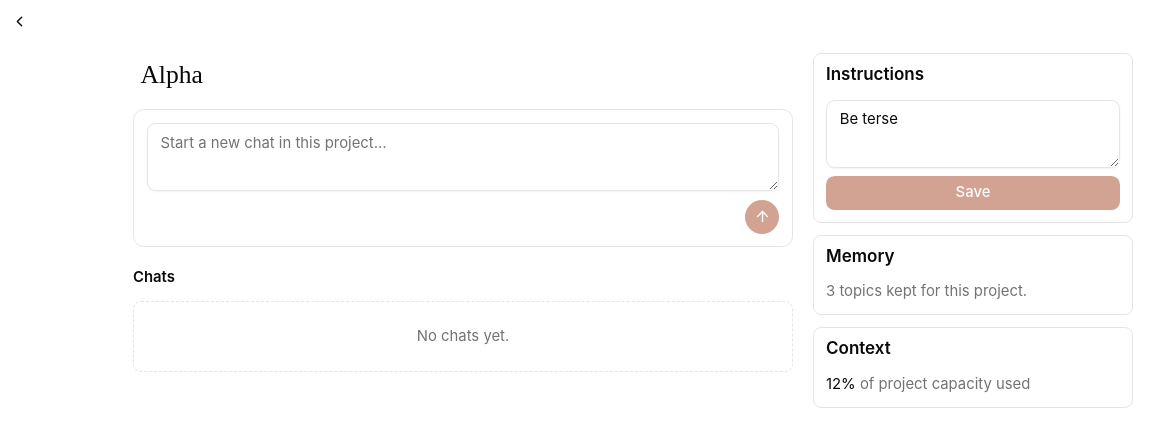
Test: ProjectDetail › an unhandled rename reverts; an unhandled instructions Save is disabled
Replace the text in the field with test id "project-title" with "Renamed" at (463, 75), box 133,53 -> 793,98
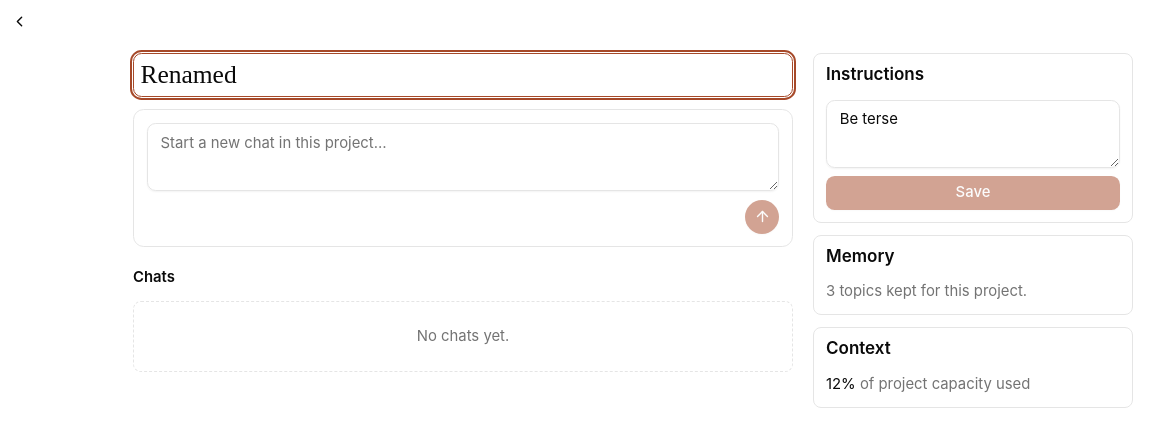
Press Tab
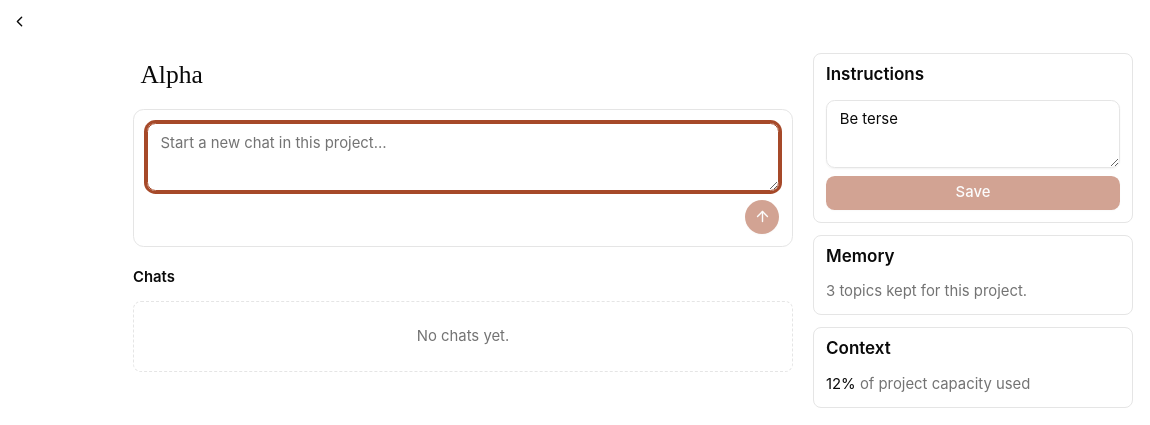
Expected: the button with test id "project-instructions-save" is disabled, 826,176 -> 1120,210
Expected: the field with test id "project-title" holds "Alpha", 133,53 -> 793,98
